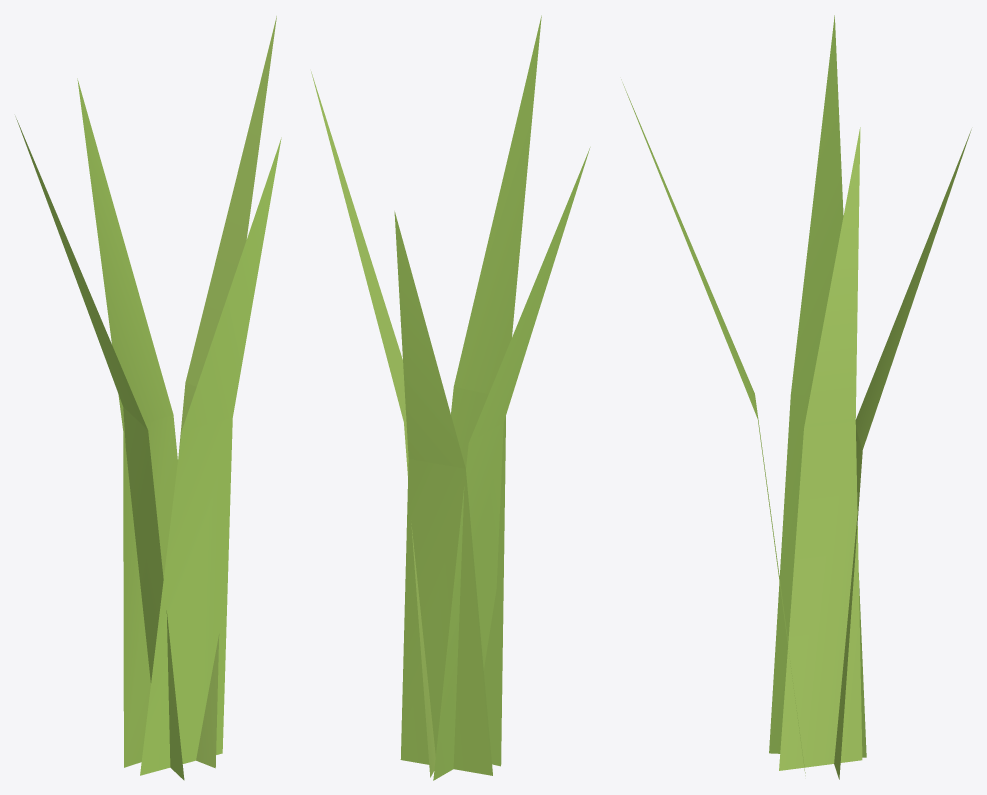
The model's file is grassTuft.glb.
3 renders of one model, left to right at view 1: azimuth 30°, elevation 25°; view 2: azimuth 150°, elevation 25°; view 3: azimuth 270°, elevation 25°, orthographic. The views are drawn at different scales.
Visible parts, largest first — view 1: grassTuft; view 2: grassTuft; view 3: grassTuft.
Boxes of the visible parts, bbox=[...] form: grassTuft: bbox=[15, 16, 281, 780]; grassTuft: bbox=[311, 15, 590, 780]; grassTuft: bbox=[621, 15, 971, 779].
Size of the model in its own units: 0.1209 by 0.293 by 0.1351.
